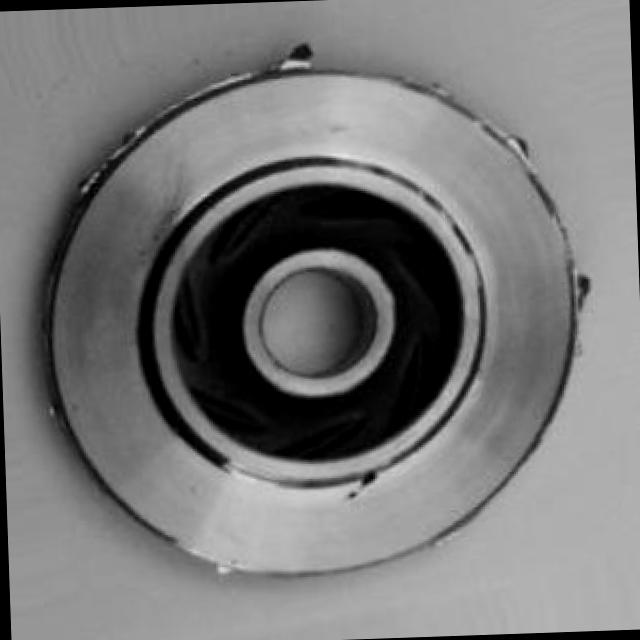Defect: (270, 36, 322, 74)
